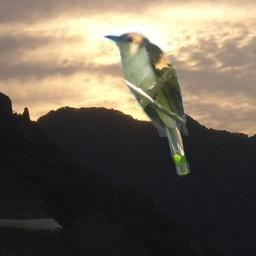Cuckoo: (100, 30, 193, 182)
